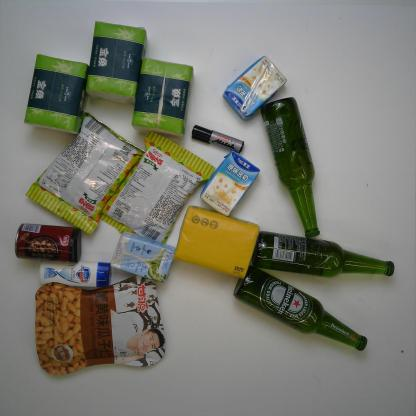Alcohol: (233, 265, 369, 352), (259, 96, 322, 239), (253, 231, 395, 279)
Canned Food: (12, 221, 83, 265)
Dried Fruit: (33, 274, 166, 375)
Milk: (223, 54, 288, 121), (200, 152, 260, 217), (109, 232, 177, 283)
Personal Hygiene: (36, 260, 112, 289)
Puffed Food: (26, 109, 144, 236), (98, 130, 214, 252)
Stationery: (189, 123, 245, 156)
Tissue: (174, 205, 260, 278), (23, 54, 88, 135), (86, 20, 147, 106), (131, 56, 194, 139)
